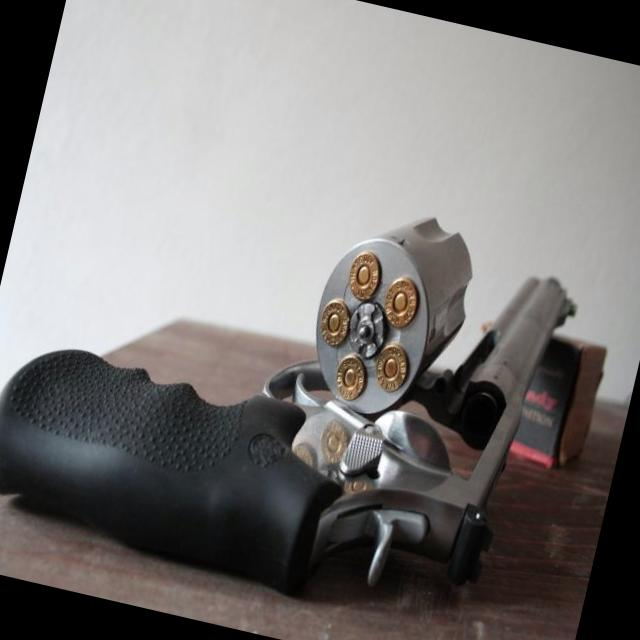Gun: (0, 218, 573, 592)
